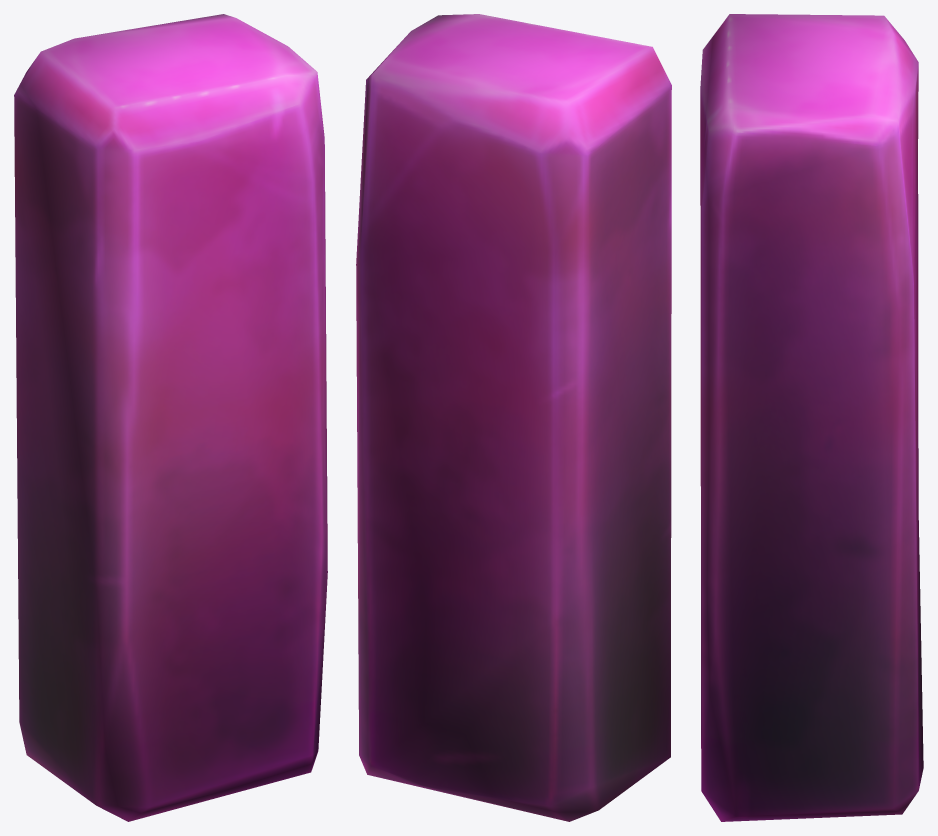
Rendered from SM_Gem_Kunzite_005.fbx.
The picture shows the model from 3 angles, left to right: view 1: azimuth 30°, elevation 25°; view 2: azimuth 150°, elevation 25°; view 3: azimuth 270°, elevation 25°; orthographic projection.
Parts seen in each view (by area): view 1: SM_Gem_Kunzite_005; view 2: SM_Gem_Kunzite_005; view 3: SM_Gem_Kunzite_005.
Boxes of the visible parts, x1,y1,x2,y2 form: SM_Gem_Kunzite_005: (14,14,327,821); SM_Gem_Kunzite_005: (356,14,671,821); SM_Gem_Kunzite_005: (700,14,923,821).
Bounding box in the file's own units: 18.14 × 54.35 × 15.36.
